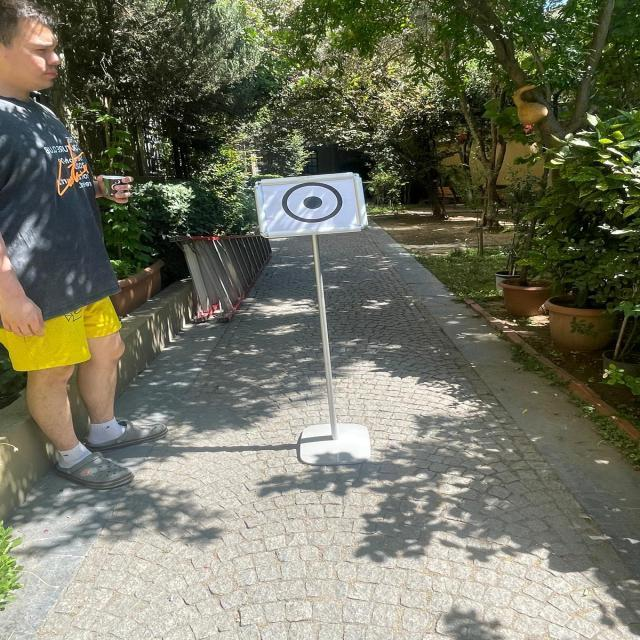Target: (231, 166, 393, 241)
inner: (299, 188, 328, 218)
